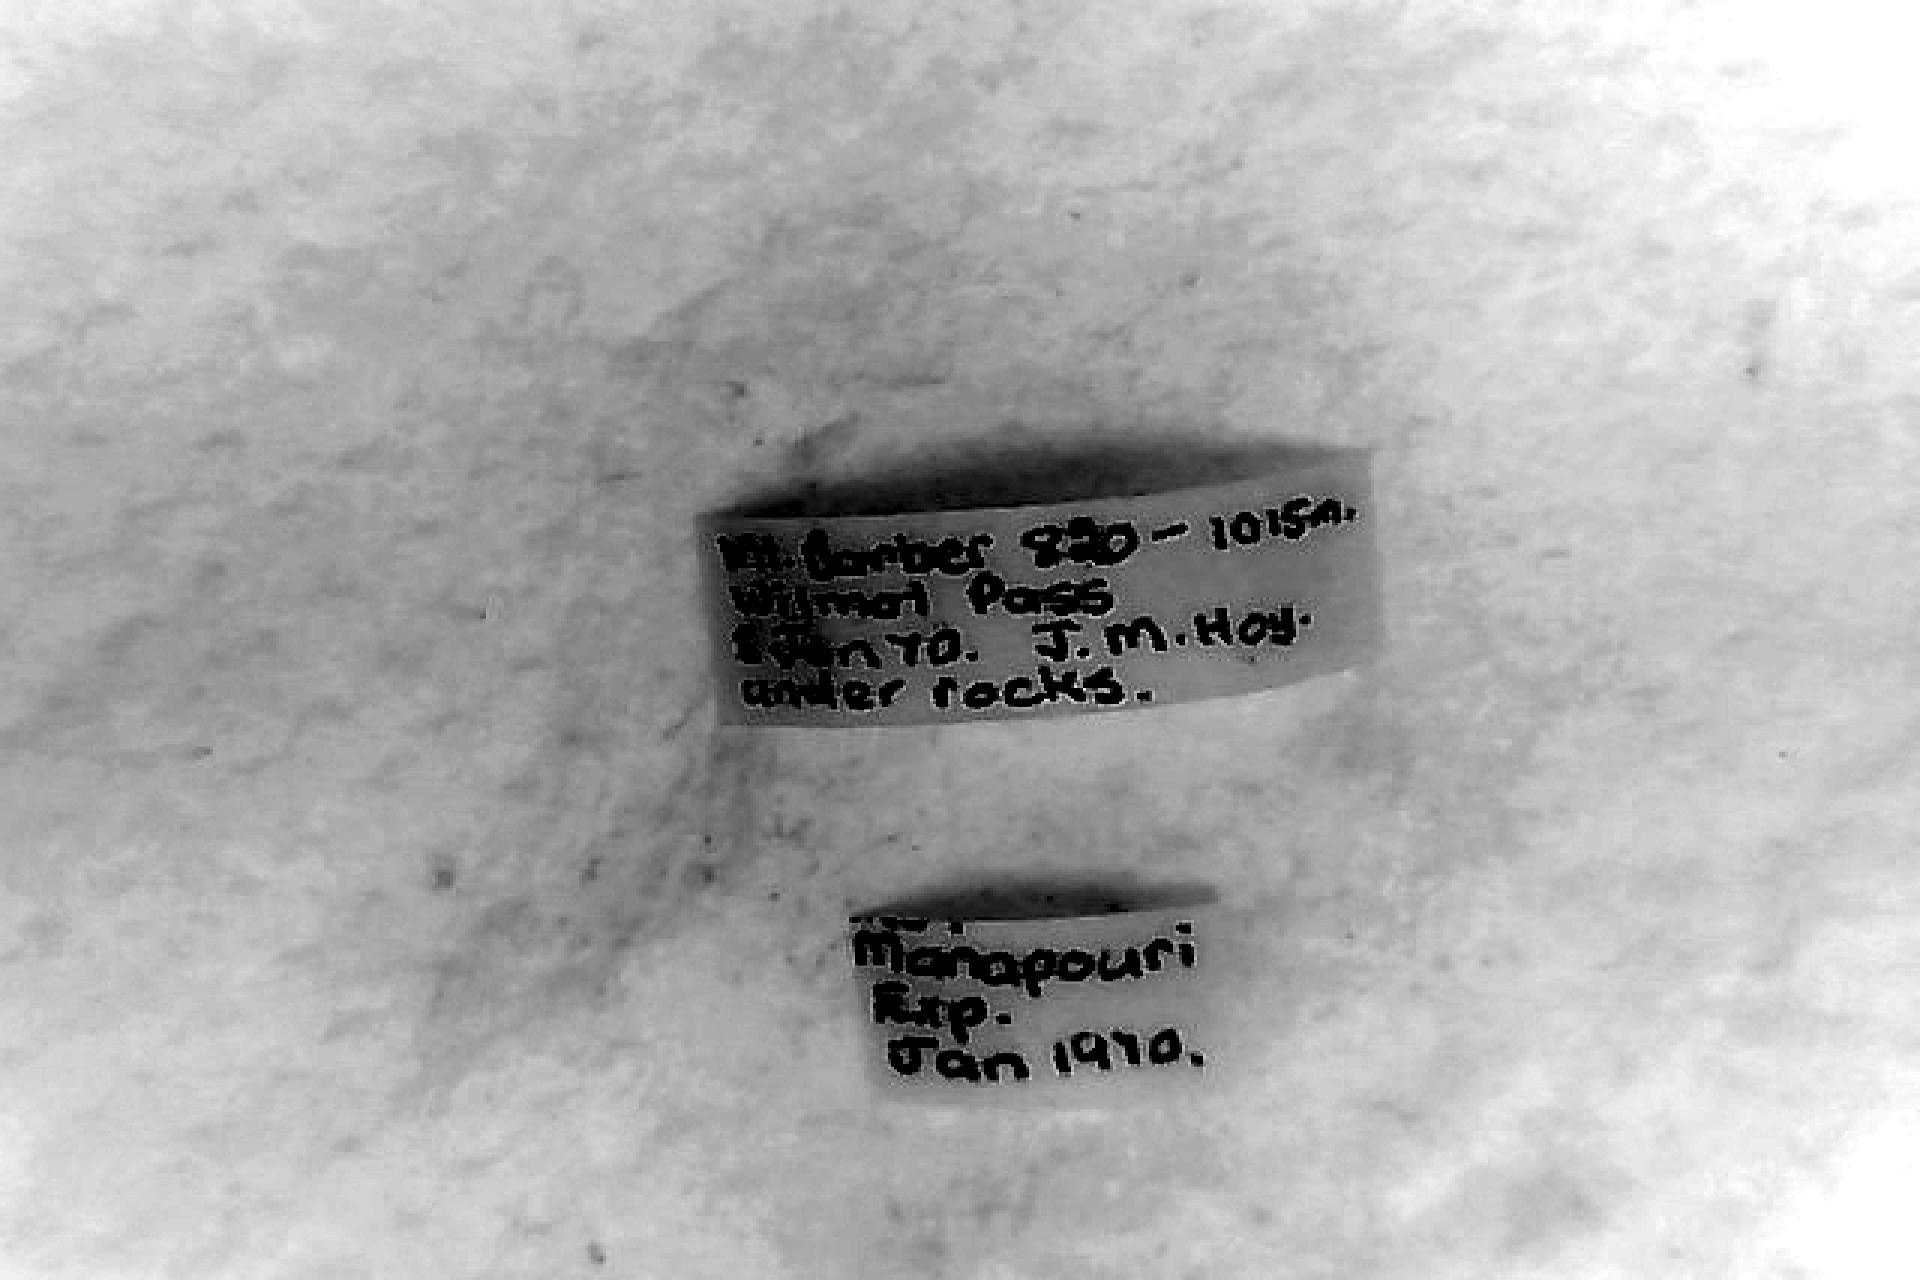hand_label: (697, 454, 1376, 726), (701, 453, 1376, 726), (847, 907, 1214, 1097)
